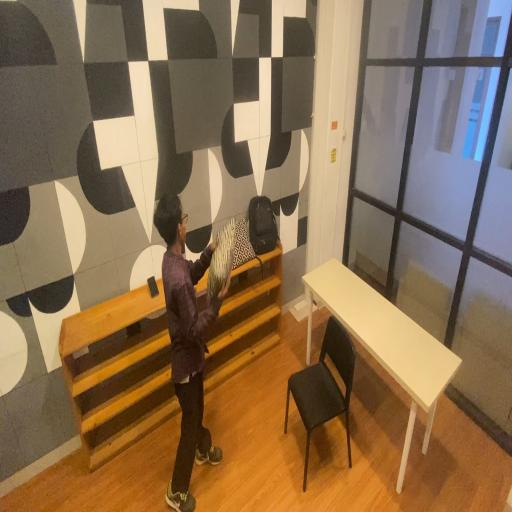bantal: (203, 214, 238, 308), (221, 212, 257, 277)
hp: (147, 274, 159, 305)
kursi: (284, 298, 356, 503)
lemari: (59, 262, 197, 480), (180, 224, 288, 394)
meja: (298, 252, 463, 506)
tas ransel: (246, 195, 282, 263)
